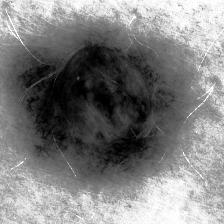Benign Marking or Mole: (13, 39, 184, 185)
